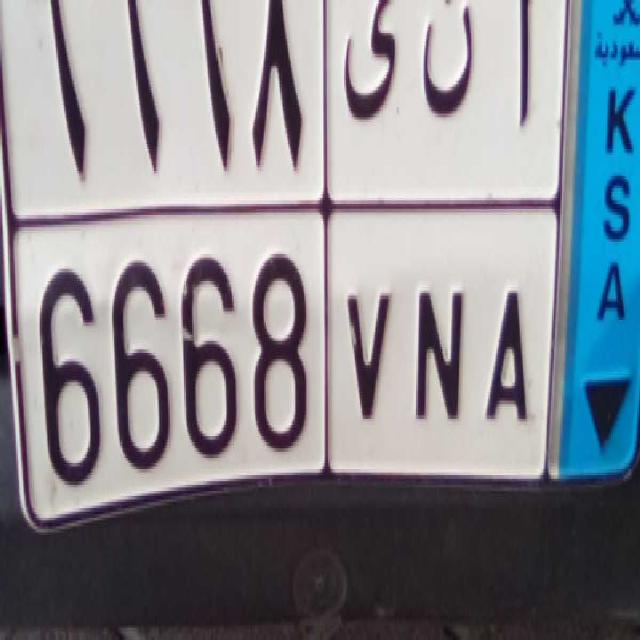license_plate: (1, 204, 559, 517)
